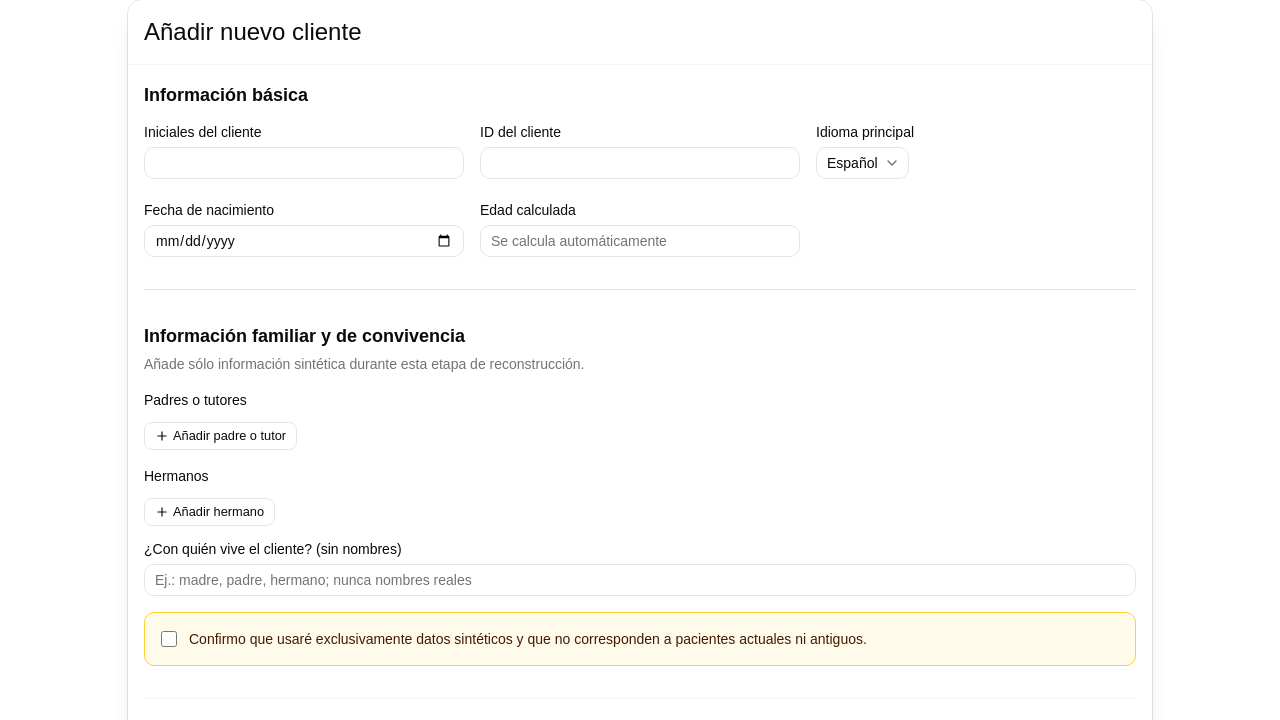
Test: ClientForm › rechaza identificadores directos
The width and height of the screenshot is (1280, 720).
Step 1. Type "AB" into the field labelled "Iniciales del cliente" → point(304, 163), box x1=144 y1=147 x2=464 y2=179
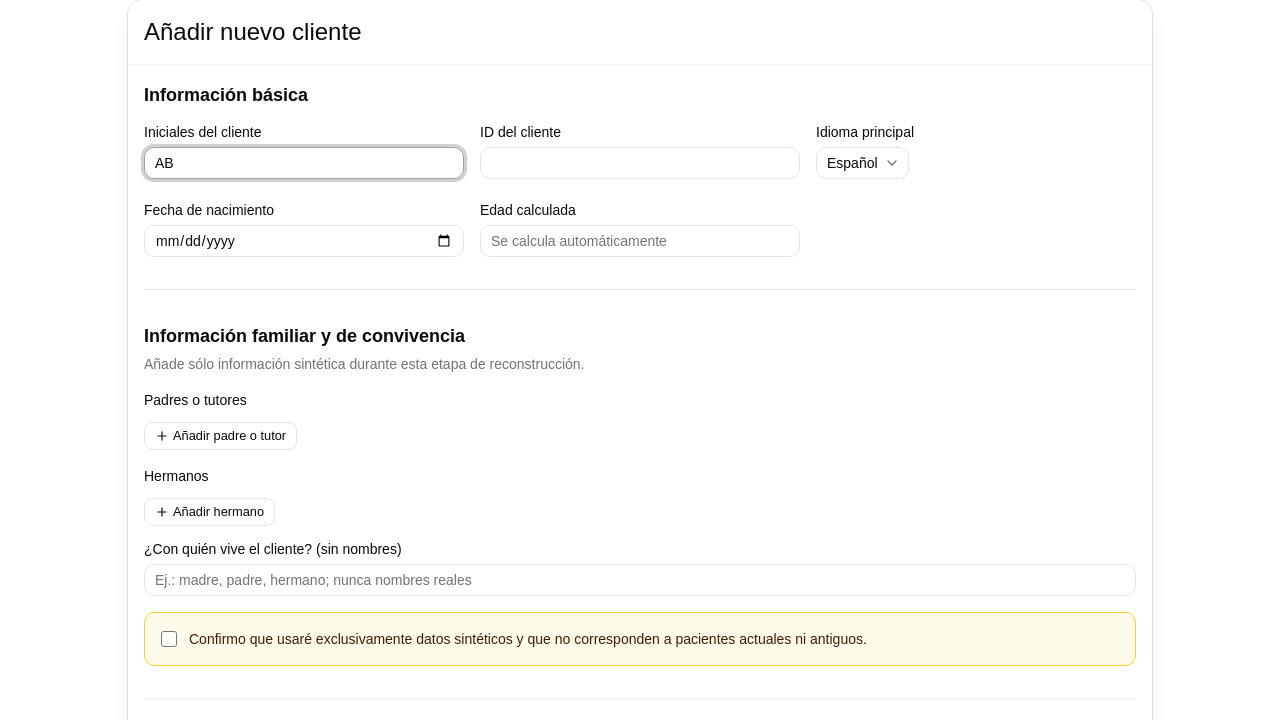
Step 2. Type "12.345.678-5" into the field labelled "ID del cliente" → point(640, 163), box x1=480 y1=147 x2=800 y2=179
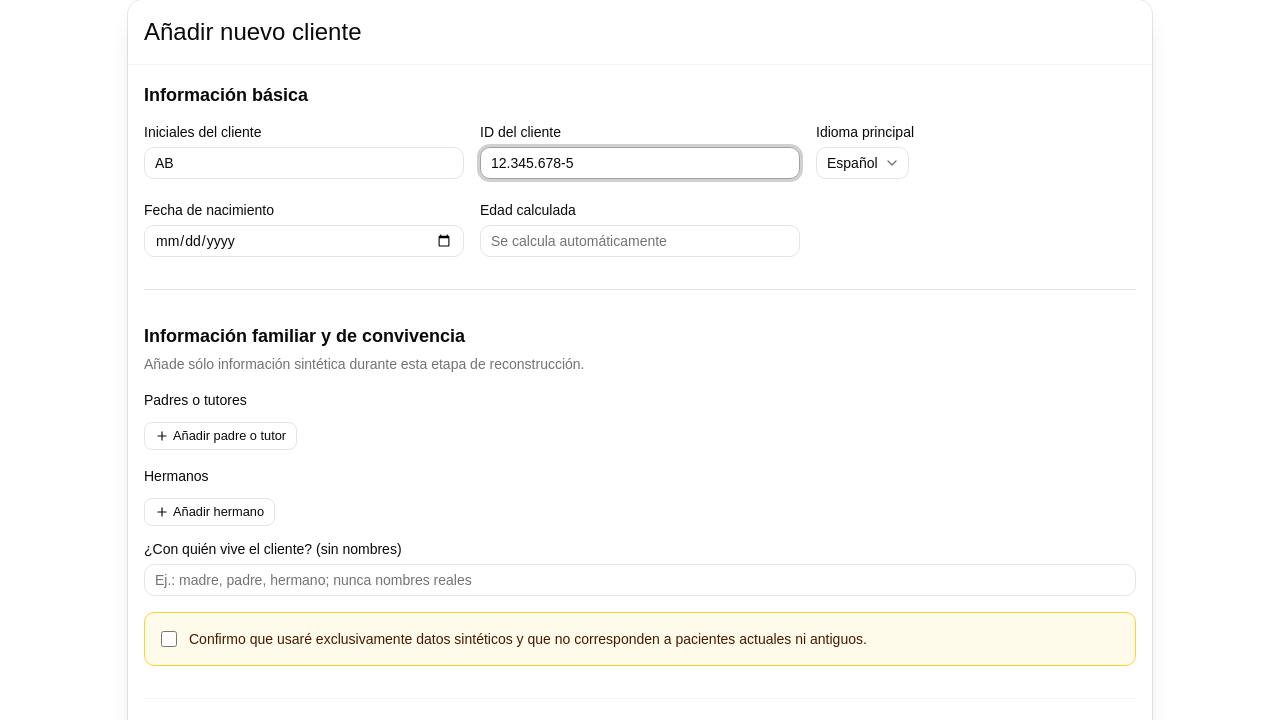
Step 3. Type "2020-02-29" into the date field labelled "Fecha de nacimiento" → point(304, 241), box x1=144 y1=225 x2=464 y2=257
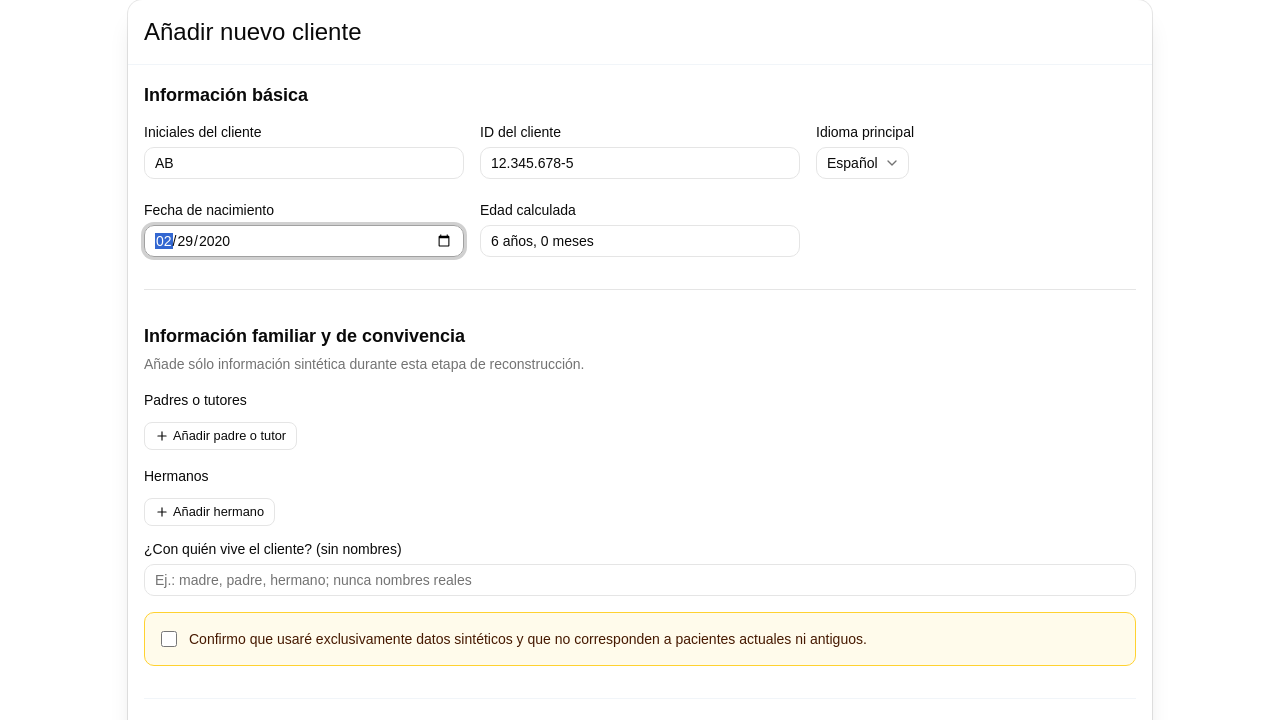
Step 4. Click the checkbox labelled "Confirmo que usaré exclusivamente datos sintéticos" → point(169, 639), box x1=161 y1=631 x2=177 y2=647
(page scrolled)
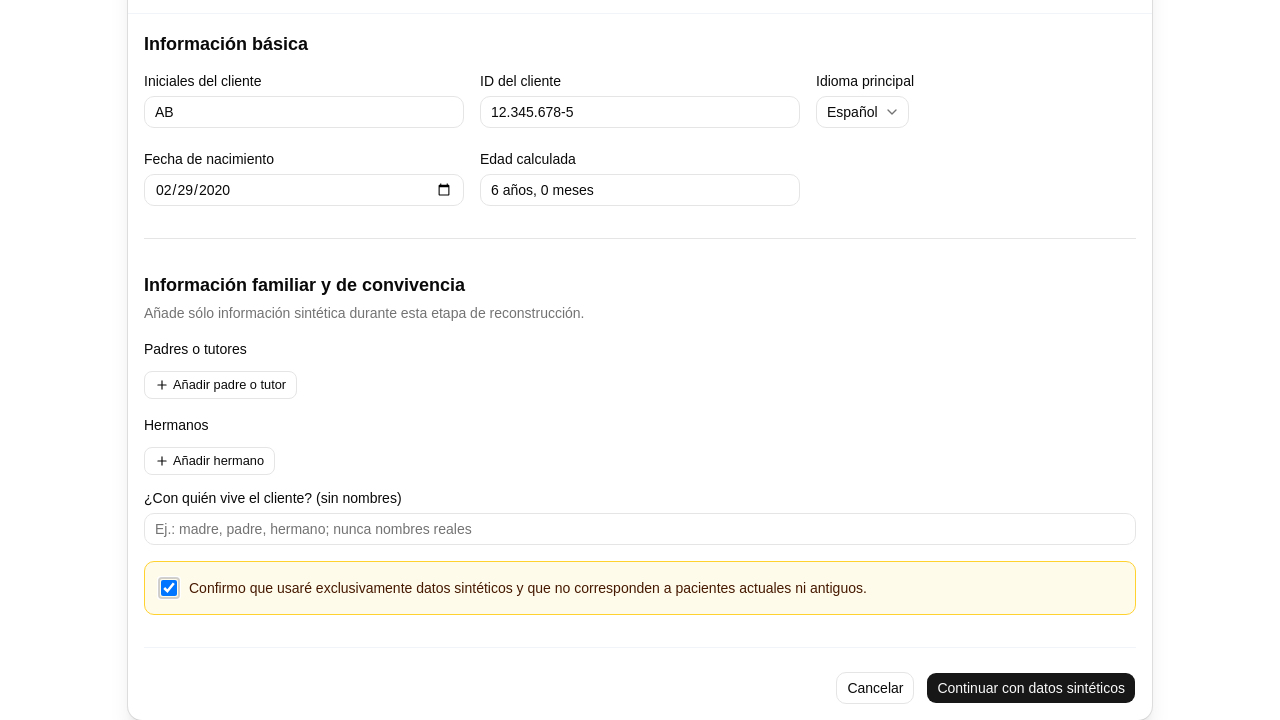
Step 5. Click the button "Continuar con datos sintéticos" → point(1031, 688), box x1=926 y1=672 x2=1136 y2=704
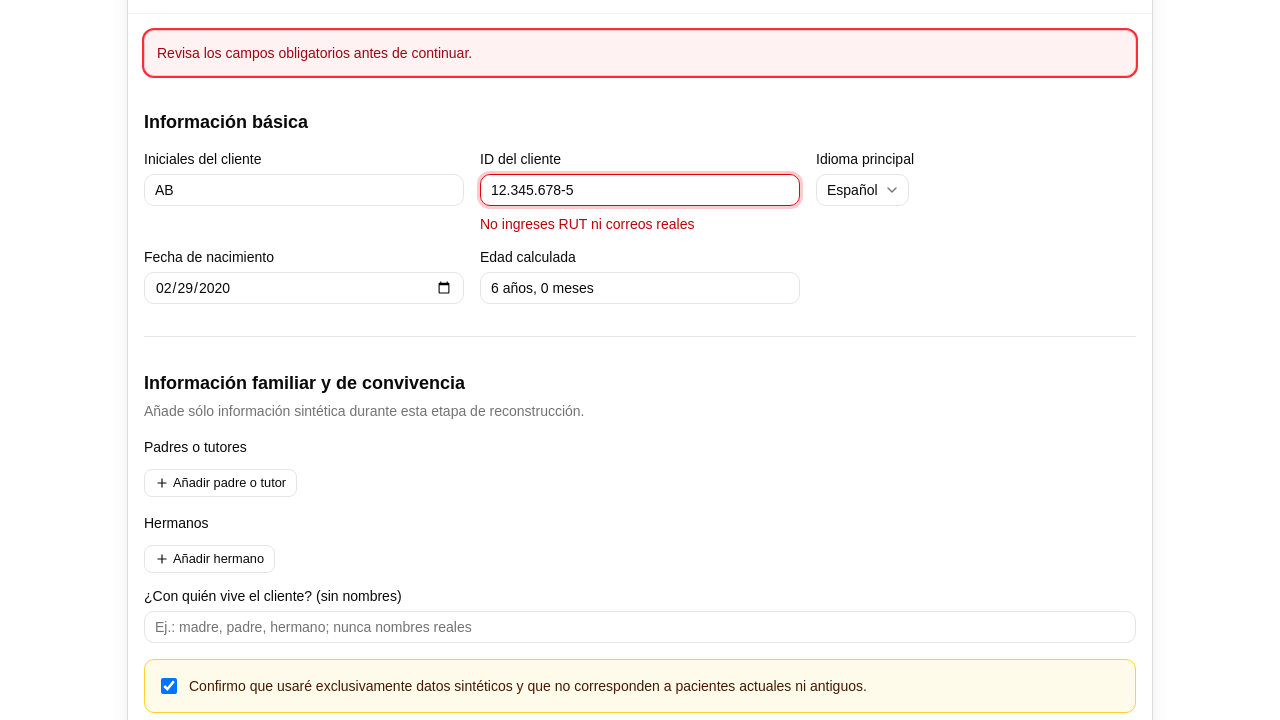
Result: the text "No ingreses RUT ni correos reales" is shown at x1=480 y1=216 x2=694 y2=232
